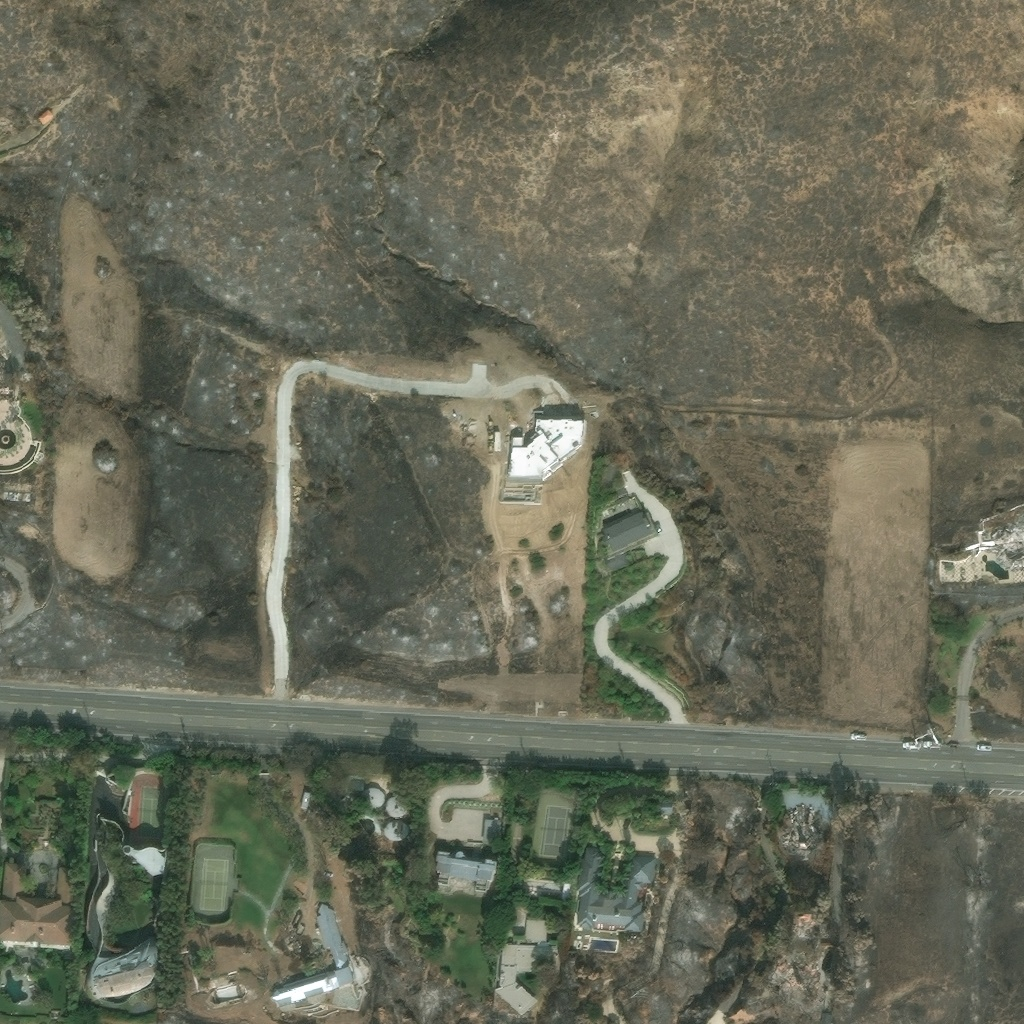0 no-damage: (270, 903, 364, 1012), (575, 846, 655, 934), (0, 862, 75, 951), (492, 918, 559, 1016), (506, 420, 585, 482), (89, 935, 158, 1000), (432, 850, 497, 893), (599, 512, 652, 553), (122, 845, 166, 879), (383, 819, 408, 842), (361, 787, 384, 808), (386, 794, 407, 817), (604, 554, 628, 574), (482, 817, 499, 843), (37, 109, 54, 126), (560, 881, 572, 901), (655, 803, 673, 816), (300, 792, 311, 810), (603, 467, 615, 483), (613, 496, 629, 505), (614, 488, 626, 498), (945, 567, 955, 577), (821, 1014, 832, 1023)
3 destroyed: (774, 804, 826, 854), (769, 958, 814, 991), (988, 523, 1023, 562), (498, 485, 542, 506), (216, 980, 238, 1004), (793, 914, 816, 933), (978, 529, 993, 550), (287, 934, 299, 951), (800, 1000, 814, 1011), (686, 589, 694, 598)
4 un-classified: (728, 1009, 754, 1023), (553, 916, 564, 933), (0, 389, 16, 400)
